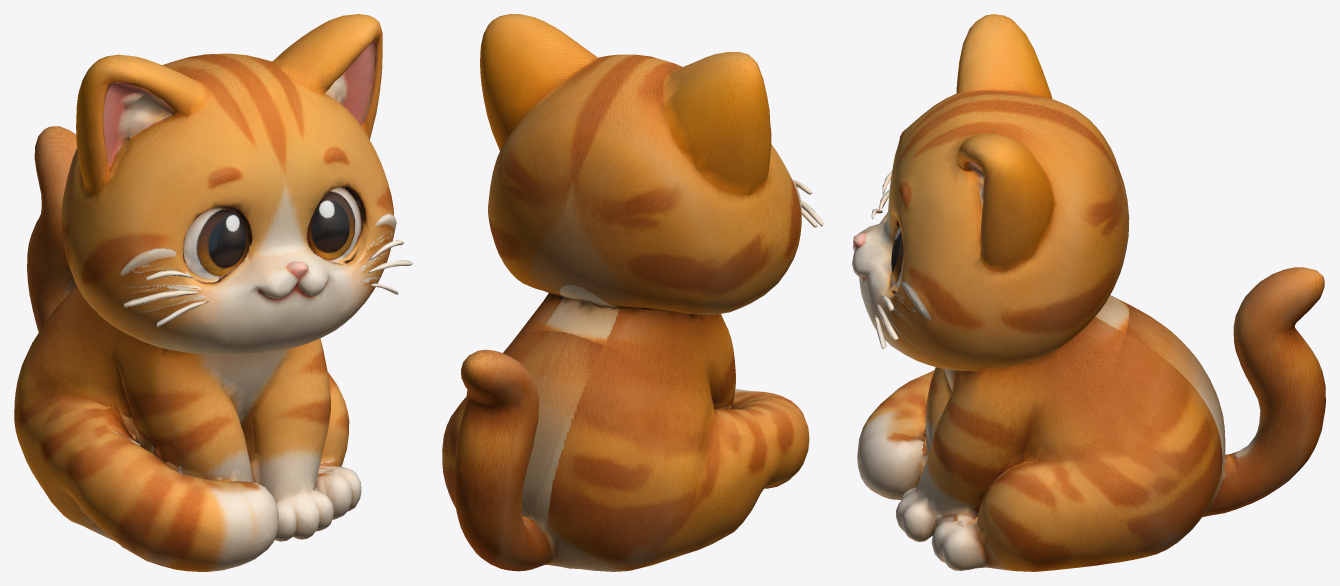
The model's file is cat.glb.
3 renders of one model, left to right at view 1: azimuth 30°, elevation 25°; view 2: azimuth 150°, elevation 25°; view 3: azimuth 270°, elevation 25°, orthographic. The views are drawn at different scales.
Parts seen in each view (by area): view 1: texture_mapping; view 2: texture_mapping; view 3: texture_mapping.
Part boxes in pixels (left/top/right/bottom): texture_mapping: left=14, top=14, right=413, bottom=571; texture_mapping: left=442, top=14, right=823, bottom=571; texture_mapping: left=852, top=14, right=1325, bottom=571.
Bounding box in the file's own units: 0.6712 × 1 × 0.9391.
1 material, 1 textured.
